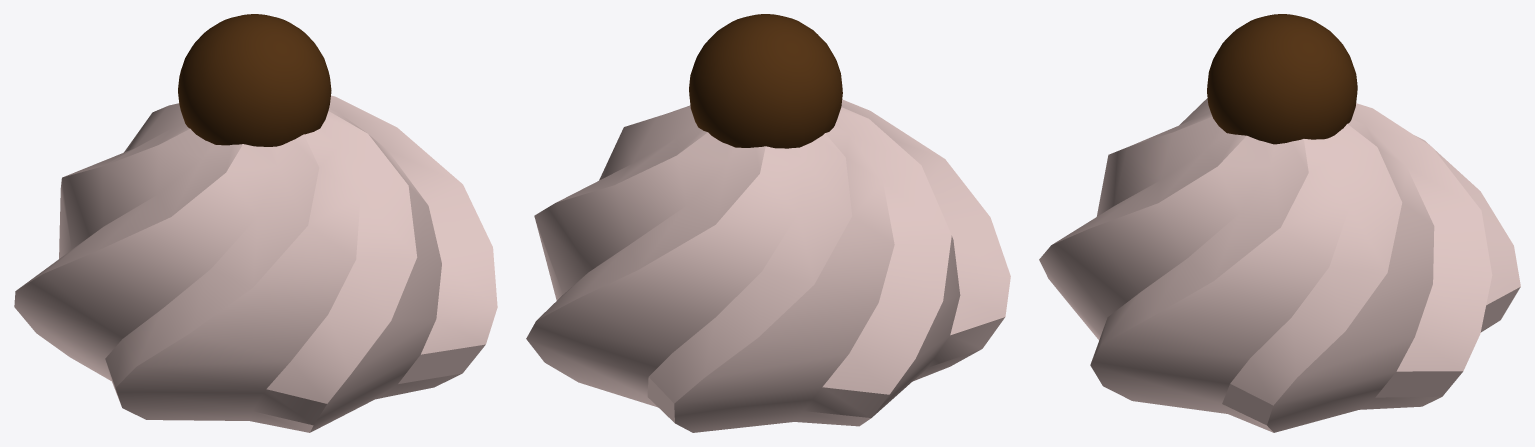
The model's file is cream-chocolate-draco.glb.
3 views of the same model, side by side, from view 1: azimuth 30°, elevation 25°; view 2: azimuth 150°, elevation 25°; view 3: azimuth 270°, elevation 25° (orthographic). The views are drawn at different scales.
Parts seen in each view (by area): view 1: cream; view 2: cream; view 3: cream.
Part boxes in pixels (x1,y1,x2,y2): cream: (14, 14, 497, 432); cream: (526, 14, 1010, 432); cream: (1039, 14, 1520, 432).
Bounding box in the file's own units: 11.32 × 8.79 × 11.62.
